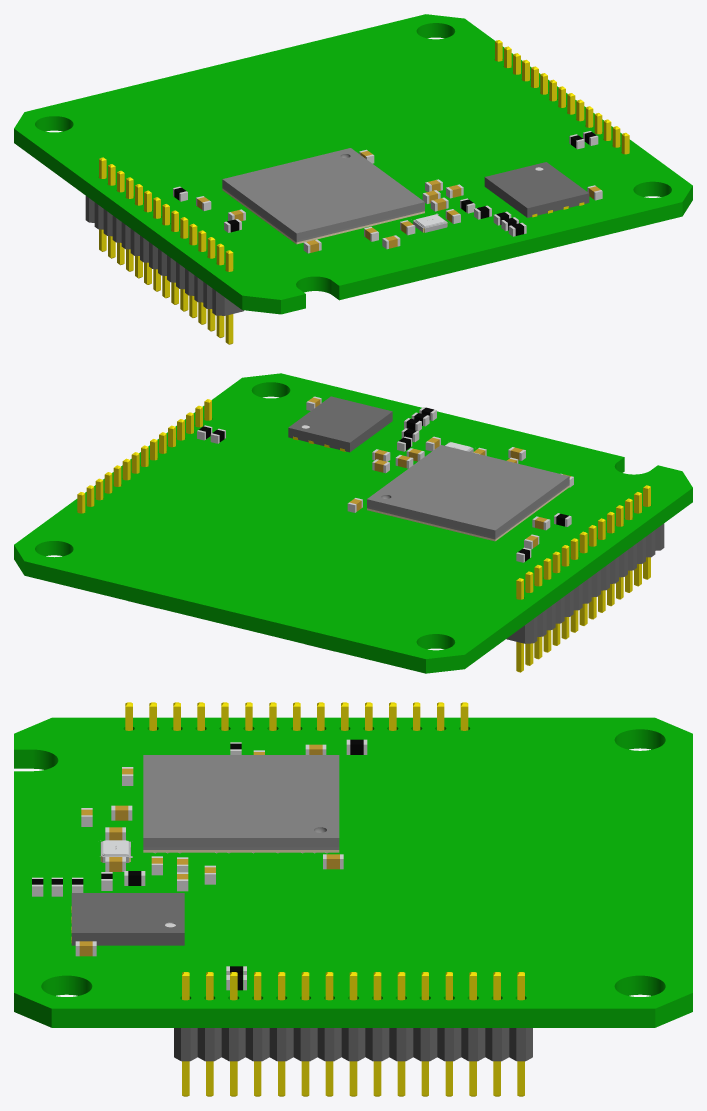
The model's file is VSM.glb.
The picture shows the model from 3 angles, top to bottom: view 1: azimuth 30°, elevation 25°; view 2: azimuth 150°, elevation 25°; view 3: azimuth 270°, elevation 25°; orthographic projection. The views are drawn at different scales.
Parts seen in each view (by area): view 1: Node6, Node26, Node2, Node1, Node3, Node15, Node5, Node10, Node7; view 2: Node6, Node26, Node2, Node1, Node3, Node15, Node5, Node10, Node7; view 3: Node6, Node26, Node1, Node2, Node3, Node15, Node5.
Boxes of the visible parts, x1,y1,x2,y2 form: Node6: (14,14,692,314); Node26: (222,148,424,240); Node2: (99,40,629,344); Node1: (85,162,589,315); Node3: (173,131,602,253); Node15: (197,151,600,252); Node5: (174,132,596,235); Node10: (222,188,424,244); Node7: (222,186,424,242); Node6: (14,373,692,673); Node26: (367,445,569,537); Node2: (77,399,650,672); Node1: (288,396,664,643); Node3: (197,396,573,562); Node15: (308,397,570,548); Node5: (199,407,568,561); Node10: (367,485,569,541); Node7: (367,483,569,539); Node6: (14,717,692,1027); Node26: (143,755,339,847); Node1: (71,893,532,1061); Node2: (71,702,524,1096); Node3: (32,739,367,990); Node15: (79,744,339,956); Node5: (32,739,363,990).
Bounding box in the file's own units: 36.5 × 7.2 × 36.
